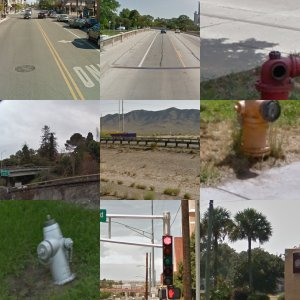腳踏車: (150, 202, 192, 282), (235, 142, 278, 196)
自行車: (255, 210, 287, 250)
